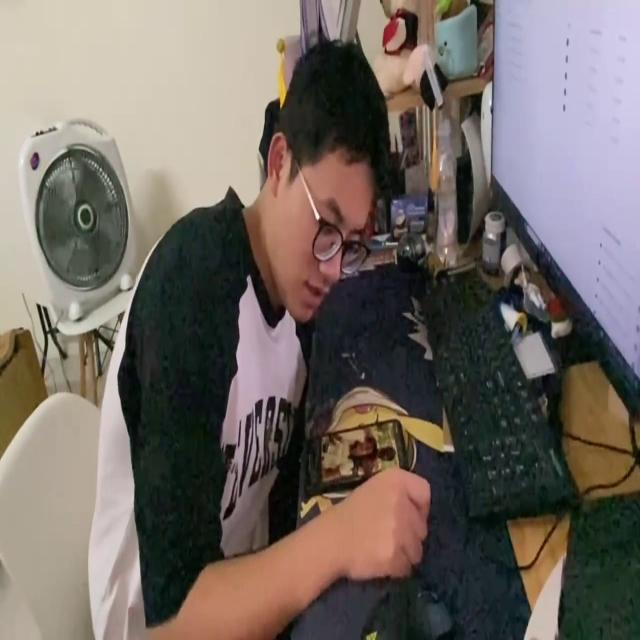laptop: (491, 0, 640, 422)
phone: (301, 417, 410, 492)
student: (87, 37, 430, 640)
